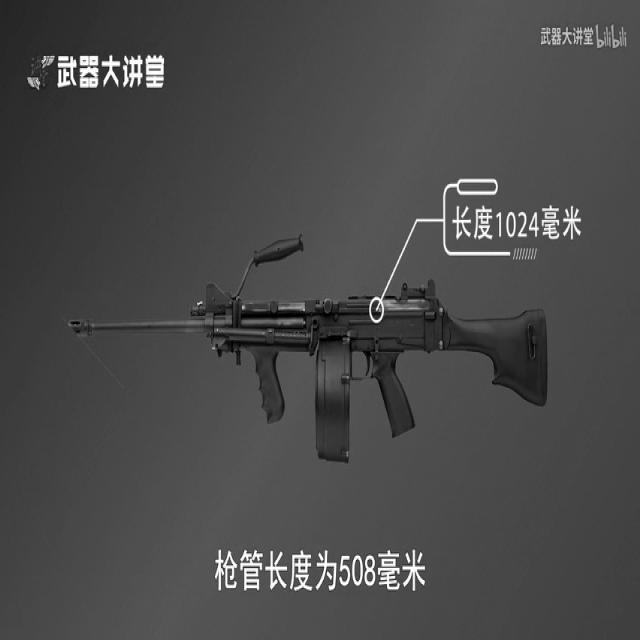Sub-machine-gun: (55, 214, 570, 452)
